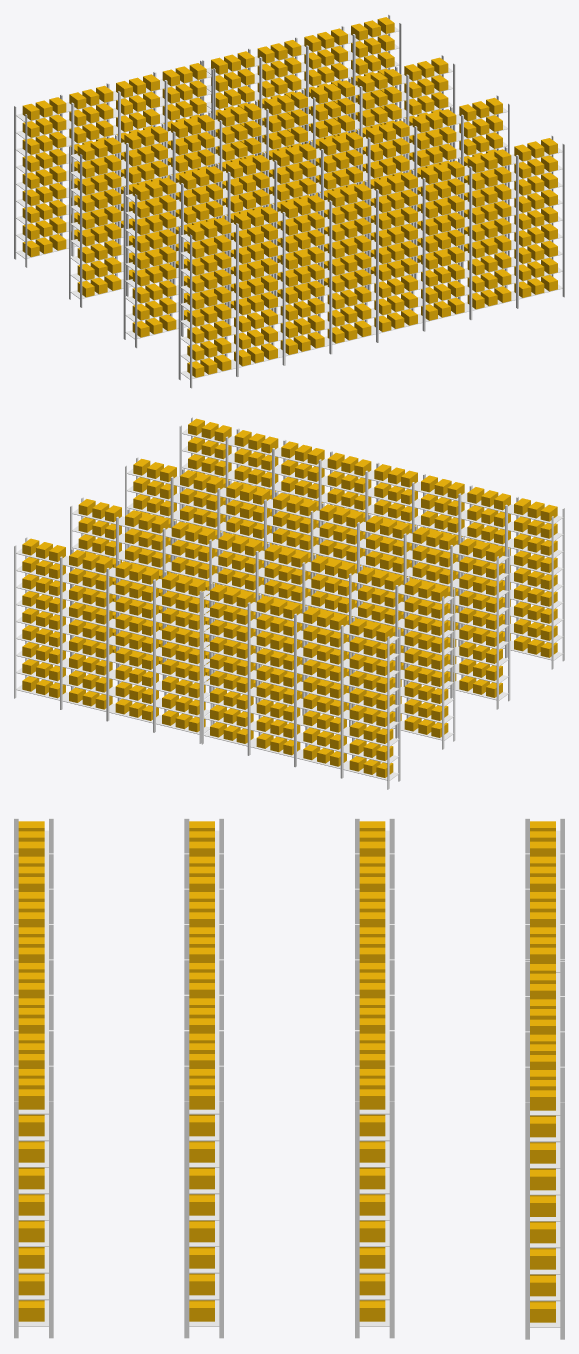
Rendered from estoque.dae.
The picture shows the model from 3 angles, top to bottom: view 1: azimuth 30°, elevation 25°; view 2: azimuth 150°, elevation 25°; view 3: azimuth 270°, elevation 25°; orthographic projection. The views are drawn at different scales.
Parts seen in each view (by area): view 1: no part large enough to name; view 2: no part large enough to name; view 3: group_8 (×4), group_9 (×4).
Part boxes in pixels (box(x1,y1,x2,y2)): group_8 (×4): box(14, 1101, 529, 1339); group_9 (×4): box(49, 1101, 564, 1339).
Bounding box in the file's own units: 607 × 498 × 238.
